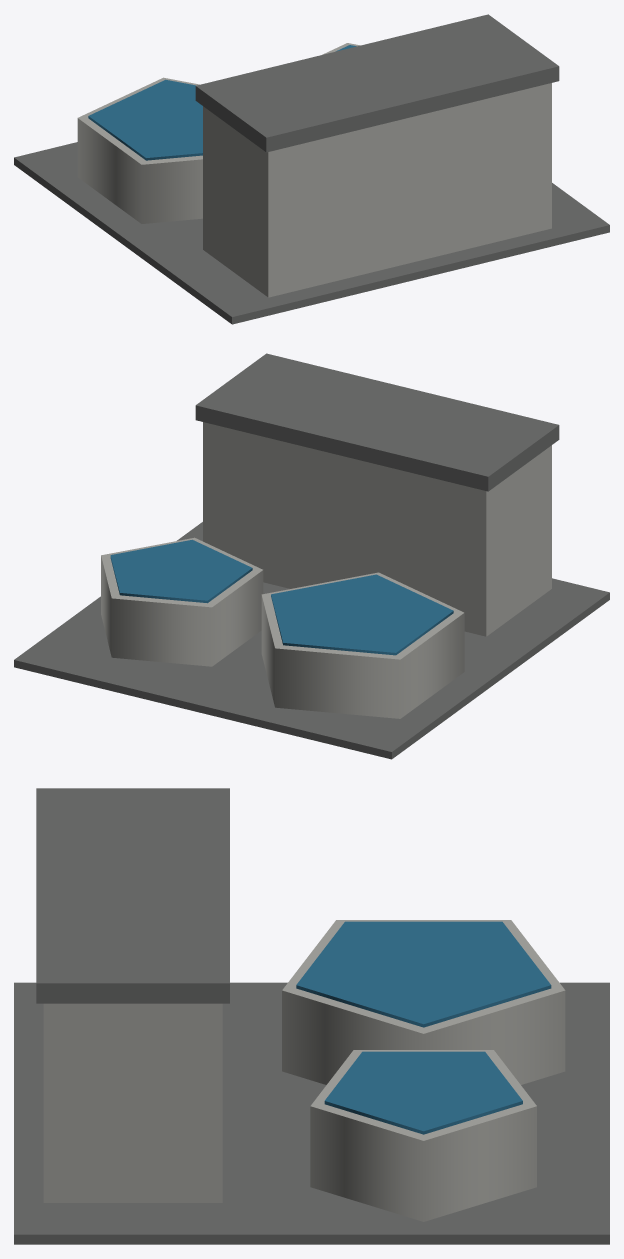
The model's file is bld_special_water_works_a06_lod2.glb.
3 views of the same model, one above another, from view 1: azimuth 30°, elevation 25°; view 2: azimuth 150°, elevation 25°; view 3: azimuth 270°, elevation 25° (orthographic). The views are drawn at different scales.
Visible parts, largest first — view 1: body; view 2: body; view 3: body.
Boxes of the visible parts, bbox=[...] form: body: bbox=[14, 14, 609, 324]; body: bbox=[14, 353, 609, 759]; body: bbox=[14, 788, 609, 1244].
Size of the model in its own units: 8 by 3.45 by 8.
